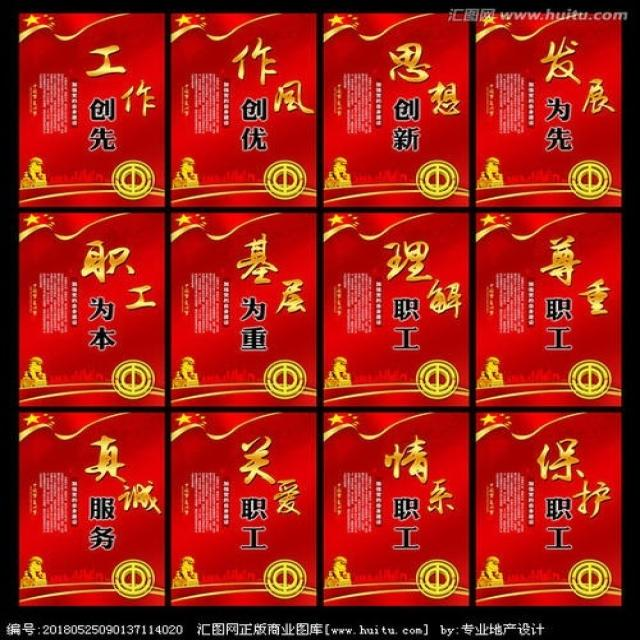box: (18, 11, 164, 206), (324, 12, 470, 207), (476, 11, 622, 206), (325, 211, 471, 406), (476, 213, 622, 407), (19, 213, 165, 407), (19, 412, 165, 606), (324, 412, 470, 606), (475, 412, 621, 606), (172, 12, 317, 207), (172, 211, 317, 406), (172, 412, 317, 606)
